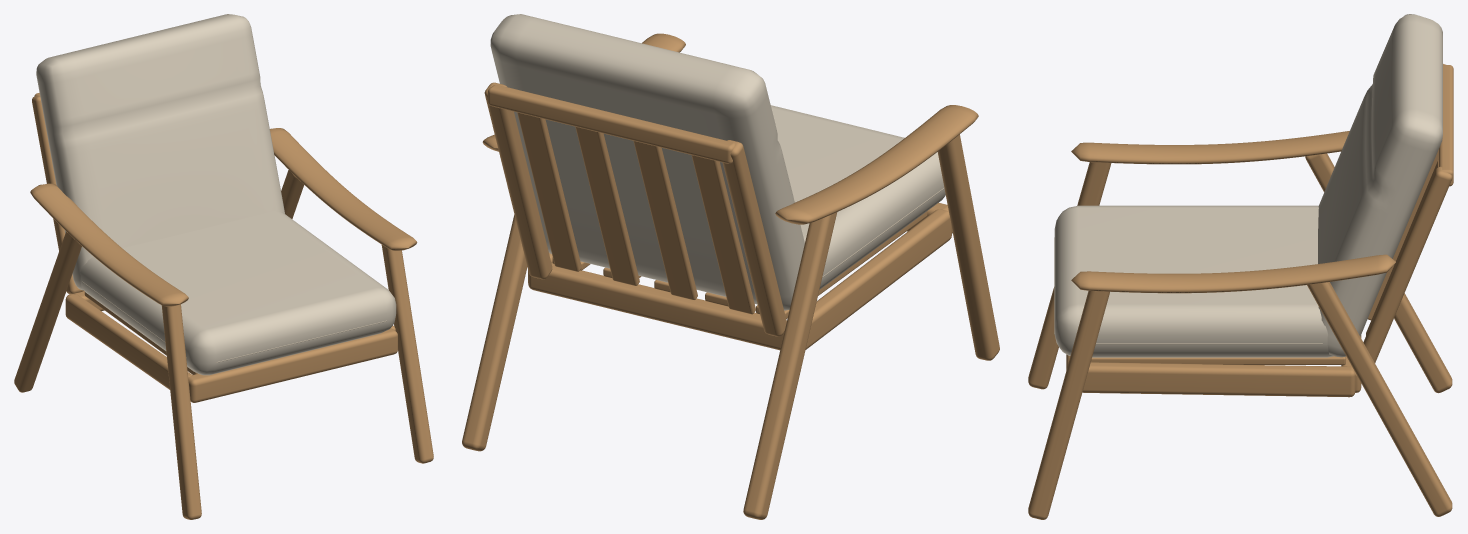
Rendered from armchair-v1.glb.
3 renders of one model, left to right at view 1: azimuth 30°, elevation 25°; view 2: azimuth 150°, elevation 25°; view 3: azimuth 270°, elevation 25°, orthographic. The views are drawn at different scales.
Parts seen in each view (by area): view 1: back-lumbar, seat-cushion, front-seat-rail, curved-arm--1, curved-arm-1, front-leg--1, front-leg-1, rear-leg--1, seat-side--1, back-stile--1, rear-leg-1; view 2: back-lumbar, seat-cushion, rear-leg--1, rear-seat-rail, curved-arm--1, back-top-rail, seat-side--1, front-leg--1, rear-leg-1, back-stile--1, back-stile-1, back-slat-0 (+5 smaller); view 3: seat-cushion, back-lumbar, seat-side-1, curved-arm-1, rear-leg-1, curved-arm--1, front-leg-1, back-stile-1, rear-leg--1, front-leg--1, seat-slat-4, back-top-rail (+1 smaller).
Part boxes in pixels (x1,y1,x2,y2): back-lumbar: (36,14,284,290); seat-cushion: (80,211,396,375); front-seat-rail: (188,328,397,402); curved-arm--1: (30,183,188,306); curved-arm-1: (270,128,417,250); front-leg--1: (161,304,201,519); front-leg-1: (381,245,433,463); rear-leg--1: (14,231,81,392); seat-side--1: (65,294,192,389); back-stile--1: (32,96,83,294); rear-leg-1: (281,170,303,218); back-lumbar: (490,14,804,310); seat-cushion: (770,105,945,289); rear-leg--1: (743,212,837,519); rear-seat-rail: (529,263,786,350); curved-arm--1: (775,105,978,224); back-top-rail: (488,85,734,163); seat-side--1: (805,209,951,349); front-leg--1: (937,134,999,360); rear-leg-1: (462,214,527,451); back-stile--1: (722,140,786,336); back-stile-1: (484,82,552,279); back-slat-0: (691,155,755,314); seat-cushion: (1054,205,1333,357); back-lumbar: (1318,14,1442,357); seat-side-1: (1082,362,1355,397); curved-arm-1: (1071,254,1395,293); rear-leg-1: (1307,282,1452,516); curved-arm--1: (1071,131,1349,164); front-leg-1: (1028,291,1109,519); back-stile-1: (1363,166,1452,362); rear-leg--1: (1305,153,1452,393); front-leg--1: (1028,162,1111,389); seat-slat-4: (1091,356,1345,364); back-top-rail: (1439,65,1453,186).
Bounding box in the file's own units: 0.725 × 0.905 × 0.9.
